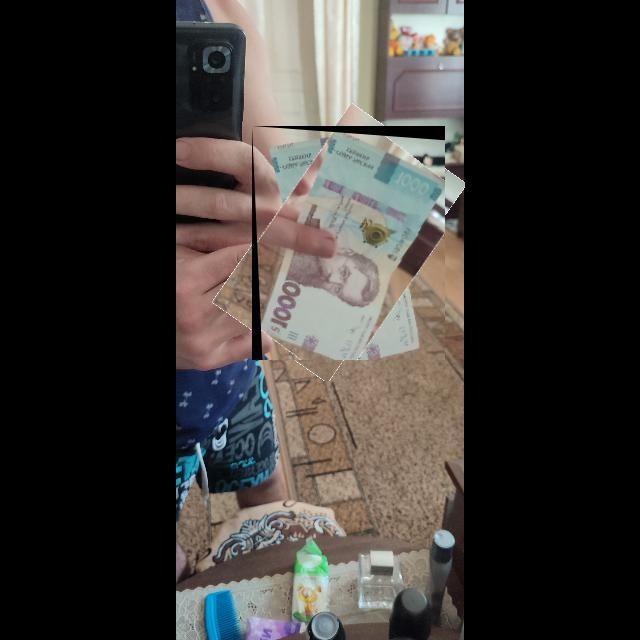1000uah: (259, 132, 446, 361)
